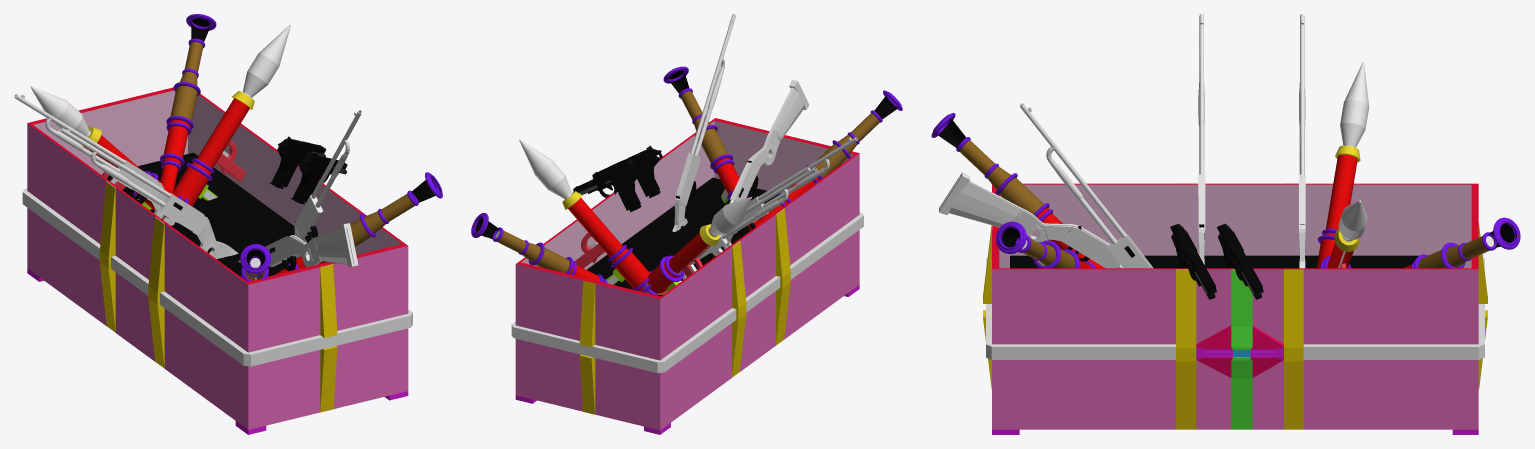
The model's file is OnlyWeapons.fbx.
The picture shows the model from 3 angles, left to right: view 1: azimuth 30°, elevation 25°; view 2: azimuth 150°, elevation 25°; view 3: azimuth 270°, elevation 25°; orthographic projection. The views are drawn at different scales.
Parts seen in each view (by area): view 1: Chest, ChestDarkness, RPG, RPG.006, shotgun, Shotgun, shotgun.001, RPG.001, RPG.003, SHOTGUN, TopHalf, TopHalf.003 (+1 smaller); view 2: Chest, ChestDarkness, RPG, RPG.003, RPG.001, Shotgun, RPG.006, SHOTGUN, RPG.005, TopHalf, shotgun, TopHalf.003 (+1 smaller); view 3: Chest, Shotgun, RPG.003, RPG.005, ChestDarkness, SHOTGUN, RPG.006, RPG.001, RPG, shotgun, shotgun.001, TopHalf.003 (+1 smaller).
Part boxes in pixels (box(x1,y1,x2,y2)): Chest: box(22, 87, 412, 434); ChestDarkness: box(107, 152, 307, 276); RPG: box(161, 25, 290, 219); RPG.006: box(160, 14, 216, 191); shotgun: box(59, 127, 238, 258); Shotgun: box(238, 223, 358, 271); shotgun.001: box(14, 94, 175, 225); RPG.001: box(275, 172, 442, 274); RPG.003: box(30, 86, 188, 217); SHOTGUN: box(294, 110, 361, 258); TopHalf: box(270, 136, 326, 188); TopHalf.003: box(291, 152, 347, 204); Chest: box(511, 118, 863, 434); ChestDarkness: box(587, 177, 779, 296); RPG: box(519, 139, 667, 295); RPG.003: box(644, 197, 751, 295); RPG.001: box(663, 66, 758, 227); Shotgun: box(729, 80, 809, 203); RPG.006: box(471, 213, 608, 283); SHOTGUN: box(672, 14, 735, 231); RPG.005: box(749, 90, 902, 230); TopHalf: box(573, 159, 643, 212); shotgun: box(712, 137, 857, 255); TopHalf.003: box(592, 145, 662, 198); Chest: box(983, 183, 1487, 434); Shotgun: box(939, 172, 1122, 268); RPG.003: box(1316, 62, 1368, 268); RPG.005: box(931, 113, 1104, 268); ChestDarkness: box(1010, 255, 1418, 268); SHOTGUN: box(1019, 103, 1153, 268); RPG.006: box(1403, 217, 1520, 268); RPG.001: box(996, 221, 1095, 268); RPG: box(1320, 200, 1367, 268); shotgun: box(1198, 14, 1205, 264); shotgun.001: box(1299, 14, 1305, 268); TopHalf.003: box(1170, 223, 1216, 299).
Size of the model in its own units: 639 by 573 by 977.
